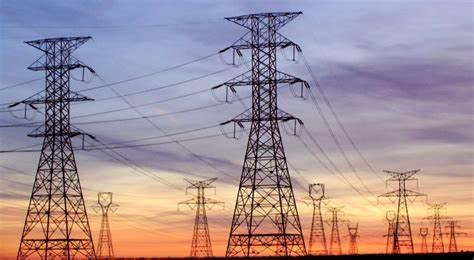power_tower: (218, 9, 308, 260), (11, 33, 104, 259), (378, 167, 426, 260), (174, 174, 226, 254), (300, 177, 337, 255), (90, 186, 128, 260)
